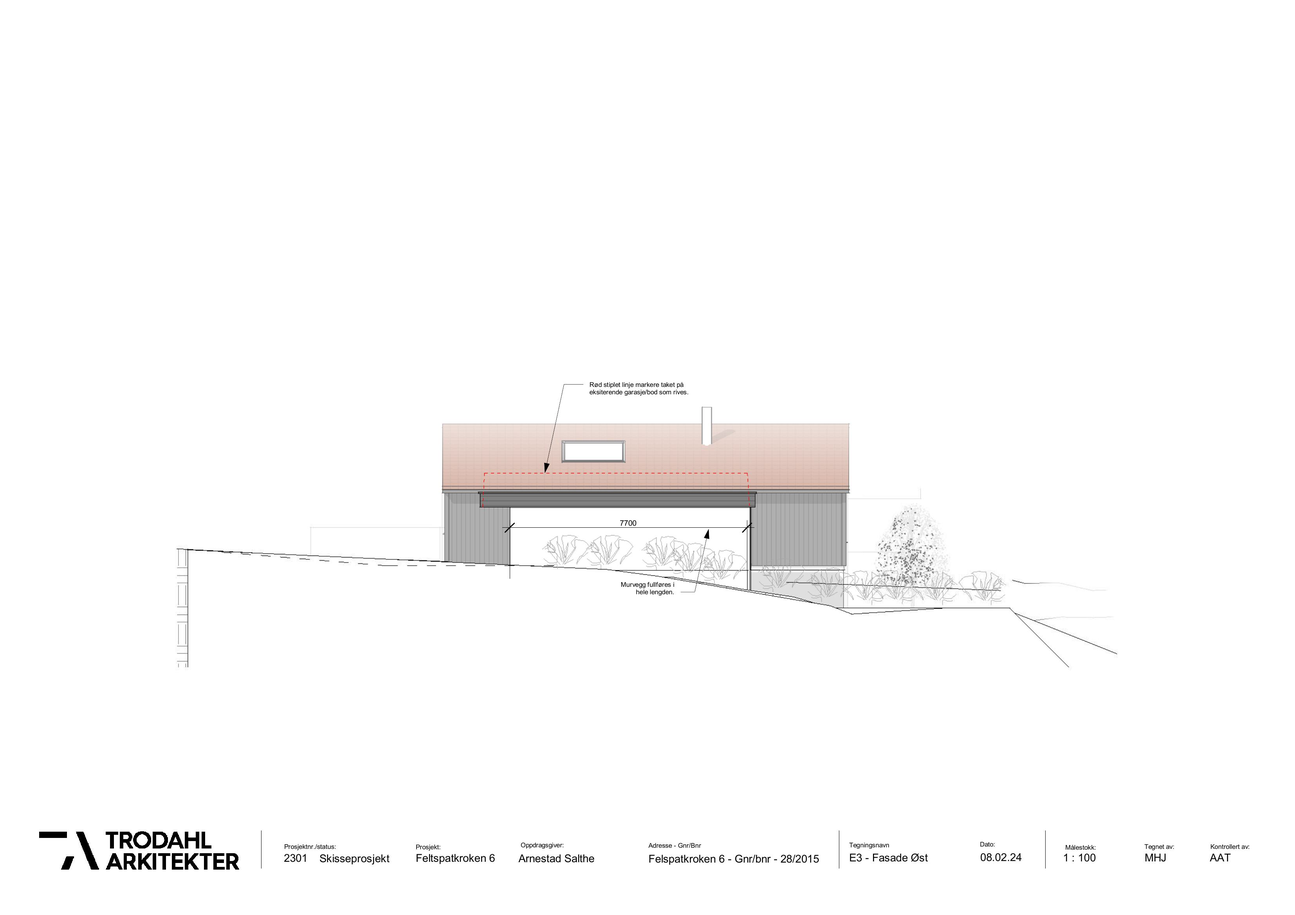fasade: (442, 407, 849, 610)
